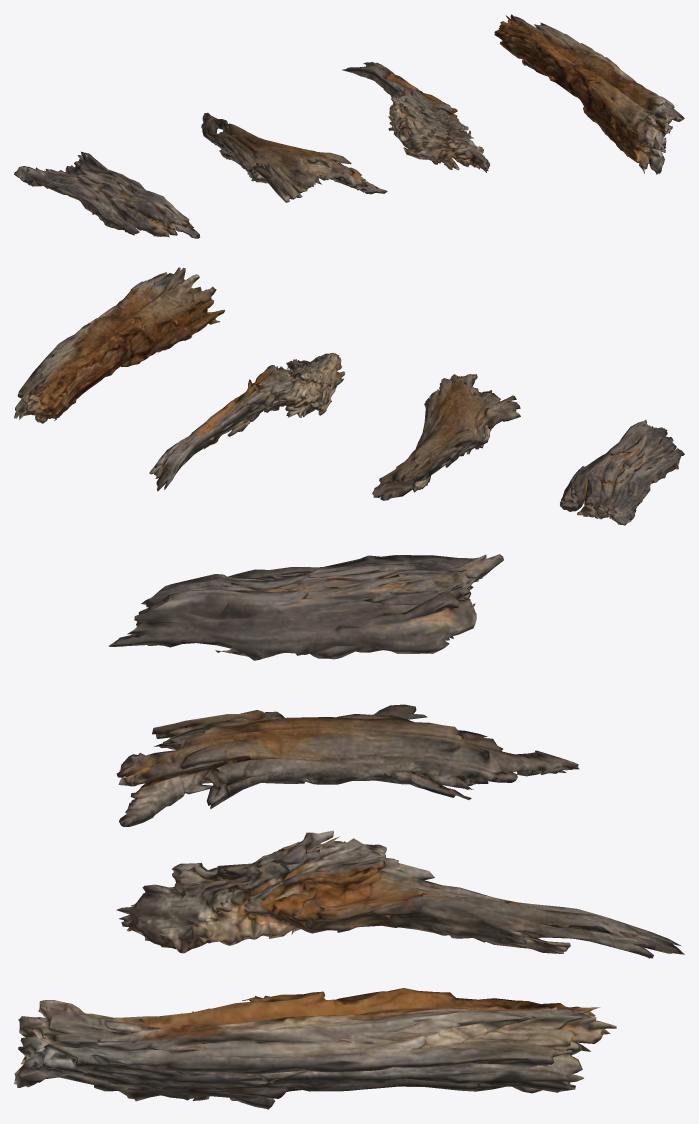
Rendered from fallen-branches-01.glb.
The picture shows the model from 3 angles, top to bottom: view 1: azimuth 30°, elevation 25°; view 2: azimuth 150°, elevation 25°; view 3: azimuth 270°, elevation 25°; orthographic projection. The views are drawn at different scales.
Visible parts, largest first — view 1: bark_debris_01_a; view 2: bark_debris_01_a; view 3: bark_debris_01_a.
Part boxes in pixels (<box>): bark_debris_01_a: <box>14,14,684,238</box>; bark_debris_01_a: <box>14,267,684,525</box>; bark_debris_01_a: <box>14,554,684,1109</box>.
Bounding box in the file's own units: 1.21 × 0.1122 × 0.6735.
1 material, 1 textured.
